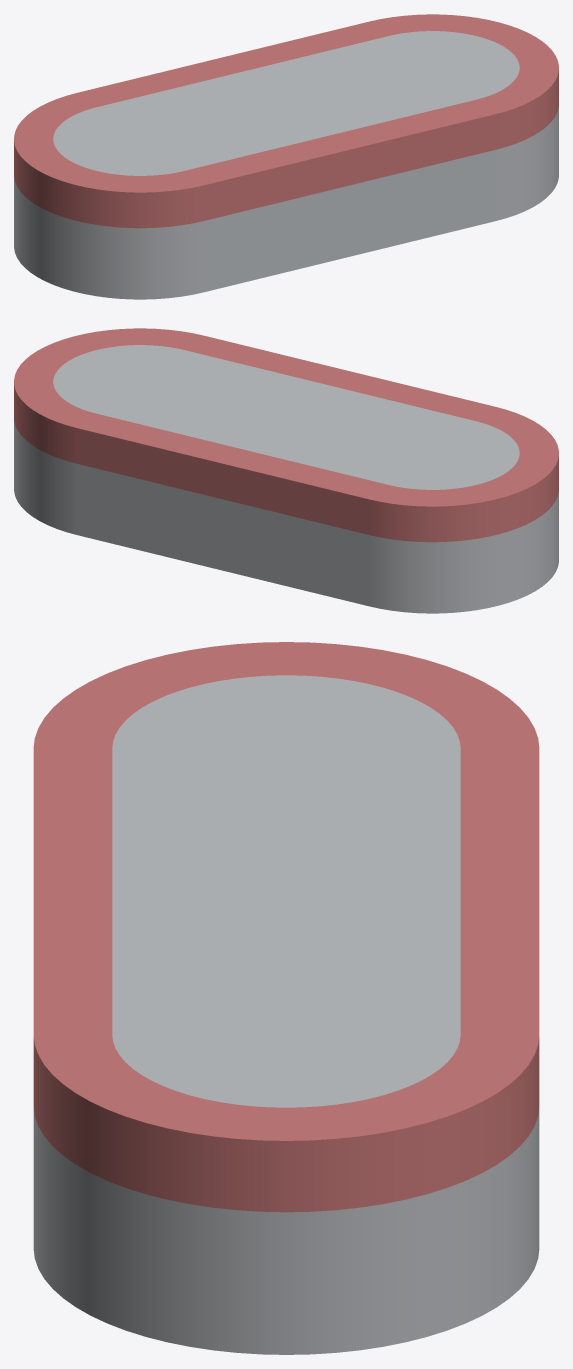
File: step_08.glb
3 views of the same model, one above another, from view 1: azimuth 30°, elevation 25°; view 2: azimuth 150°, elevation 25°; view 3: azimuth 270°, elevation 25° (orthographic). The views are drawn at different scales.
Visible parts, largest first — view 1: part__engine cowling, removed__engine cowling; view 2: part__engine cowling, removed__engine cowling; view 3: part__engine cowling, removed__engine cowling.
Part boxes in pixels (<box>): part__engine cowling: <box>14,31,558,299</box>; removed__engine cowling: <box>14,14,558,228</box>; part__engine cowling: <box>14,345,558,613</box>; removed__engine cowling: <box>14,328,558,542</box>; part__engine cowling: <box>33,675,539,1354</box>; removed__engine cowling: <box>33,642,539,1212</box>.
Bounding box in the file's own units: 2100 × 420 × 900.
